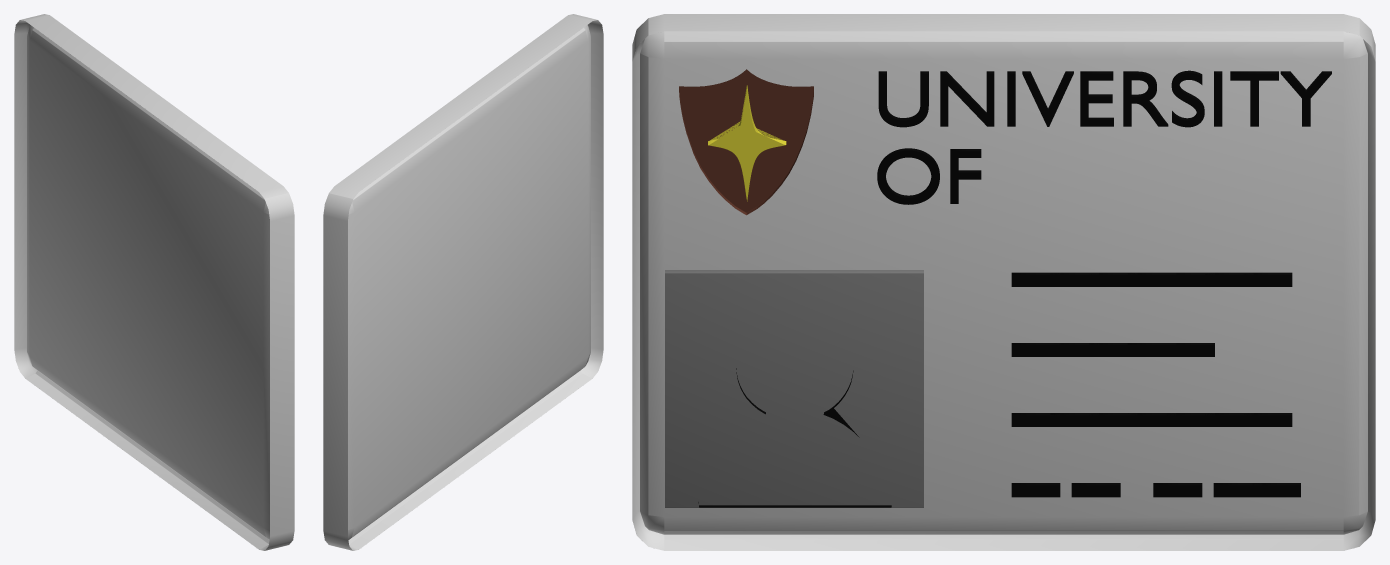
Rendered from PuzzleItem1_StudentCard.fbx.
3 renders of one model, left to right at view 1: azimuth 30°, elevation 25°; view 2: azimuth 150°, elevation 25°; view 3: azimuth 270°, elevation 25°, orthographic. The views are drawn at different scales.
Parts seen in each view (by area): view 1: Cube; view 2: Cube; view 3: Cube, Text.001, Text.
Part boxes in pixels (x1,y1,x2,y2): Cube: (14, 14, 294, 550); Cube: (323, 14, 603, 550); Cube: (632, 14, 1375, 550); Text.001: (1011, 272, 1300, 497); Text: (877, 70, 1331, 204).
Bounding box in the file's own units: 21.2 × 260 × 337.
